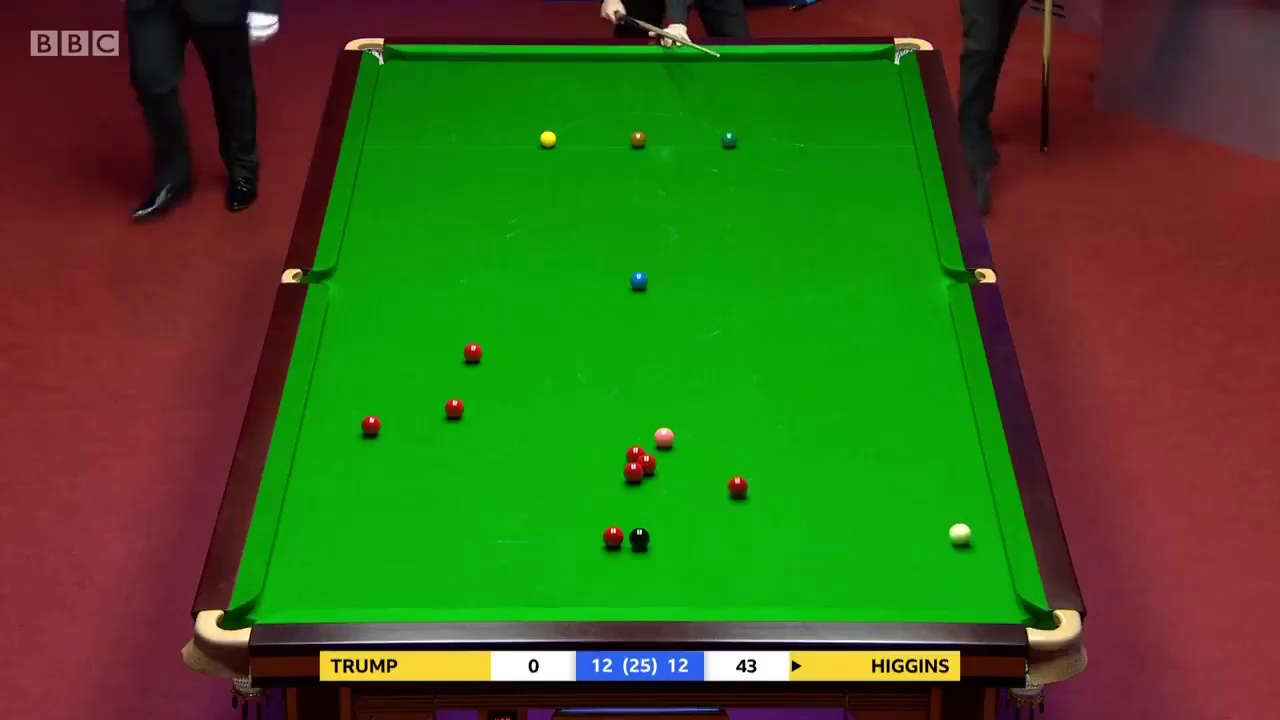ball: (946, 522, 972, 545), (655, 424, 673, 451), (621, 459, 643, 481), (627, 273, 651, 292), (361, 415, 381, 437), (629, 526, 651, 546), (604, 526, 623, 549), (461, 342, 485, 360), (445, 399, 466, 418), (629, 129, 648, 148), (537, 130, 556, 148), (730, 476, 748, 495), (721, 129, 738, 145)
